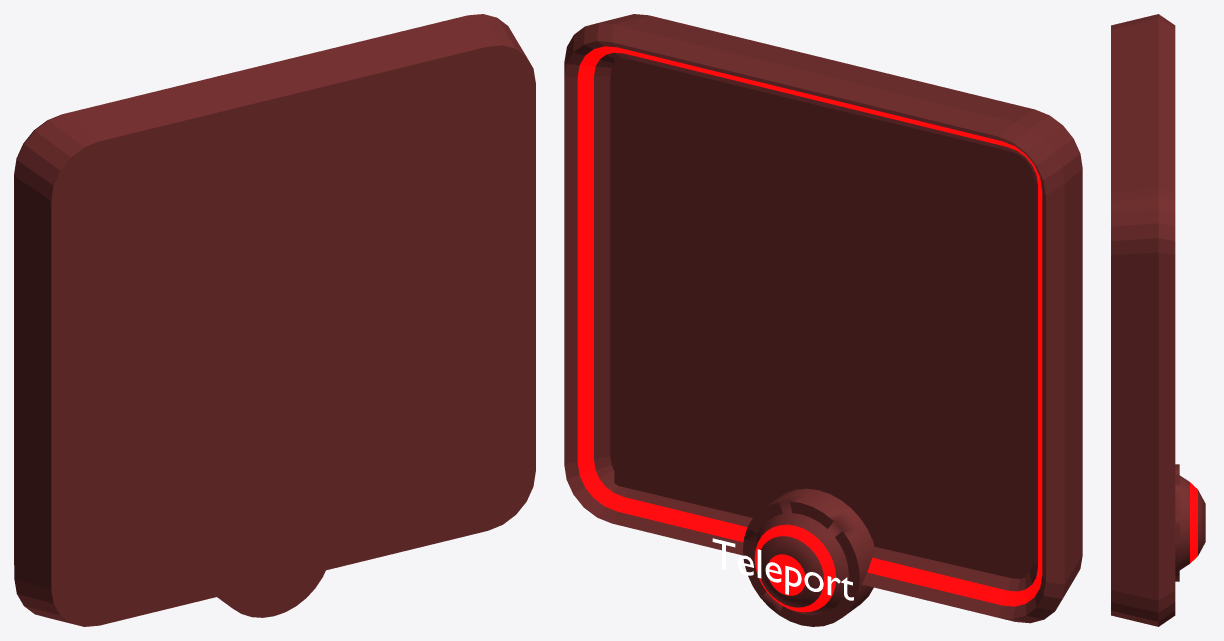
The model's file is craftingTeleporter.glb.
The picture shows the model from 3 angles, left to right: view 1: azimuth 30°, elevation 25°; view 2: azimuth 150°, elevation 25°; view 3: azimuth 270°, elevation 25°; orthographic projection. The views are drawn at different scales.
Parts seen in each view (by area): view 1: HoToSigns; view 2: HoToSigns; view 3: HoToSigns.
Boxes of the visible parts, x1,y1,x2,y2 form: HoToSigns: (14, 14, 535, 626); HoToSigns: (564, 14, 1082, 626); HoToSigns: (1111, 14, 1205, 626).
Size of the model in its own units: 2.18 by 2.26 by 0.4285.
